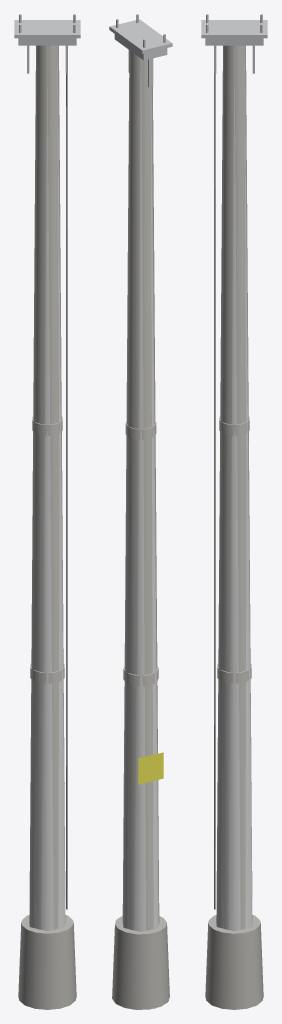
File: bne_cat_post_su.dae
3 views of the same model, side by side, from view 1: azimuth 90°, elevation 25°; view 2: azimuth 210°, elevation 25°; view 3: azimuth 270°, elevation 25° (orthographic).
Parts seen in each view (by area): view 1: bne_cat_post_su64, Colmesh_bne_cat_post_su-1, bne_cat_post_su8; view 2: bne_cat_post_su64, Colmesh_bne_cat_post_su-1, bne_cat_post_su8; view 3: bne_cat_post_su64, Colmesh_bne_cat_post_su-1, bne_cat_post_su8.
Part boxes in pixels (x1,y1,x2,y2): bne_cat_post_su64: (14, 14, 80, 1009); Colmesh_bne_cat_post_su-1: (29, 46, 65, 931); bne_cat_post_su8: (18, 914, 76, 1006); bne_cat_post_su64: (109, 14, 172, 1009); Colmesh_bne_cat_post_su-1: (123, 58, 158, 931); bne_cat_post_su8: (115, 920, 168, 1009); bne_cat_post_su64: (201, 14, 267, 1009); Colmesh_bne_cat_post_su-1: (216, 46, 252, 931); bne_cat_post_su8: (205, 914, 263, 1006).
Size of the model in its own units: 0.6 by 0.68 by 11.08.
